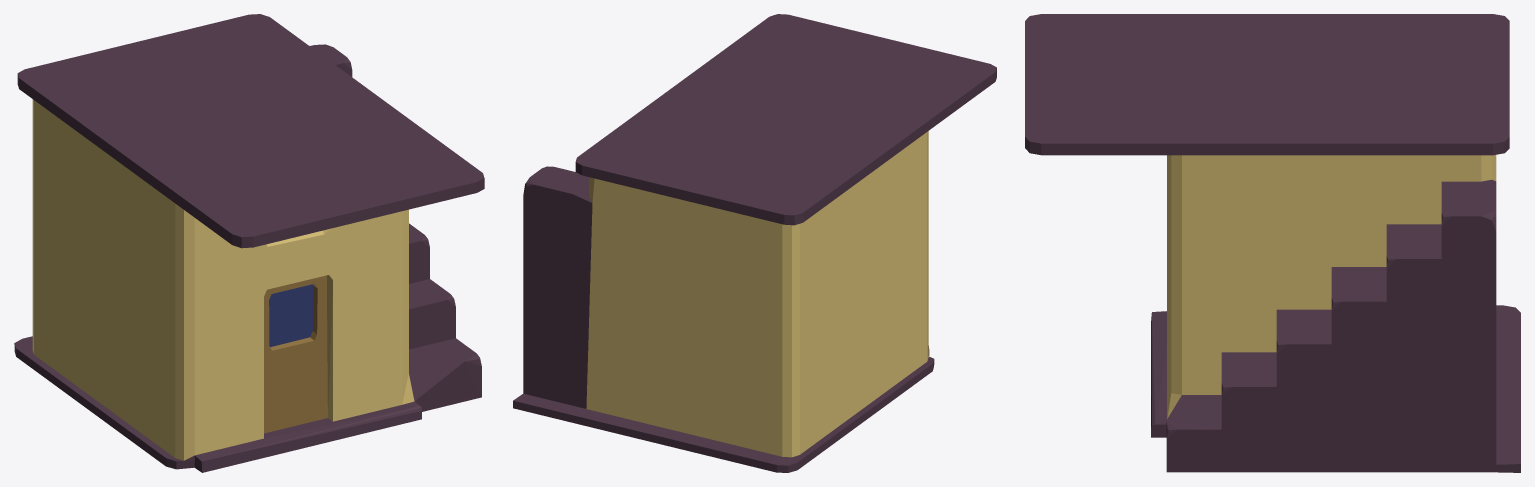
File: Building1.fbx
3 renders of one model, left to right at view 1: azimuth 30°, elevation 25°; view 2: azimuth 150°, elevation 25°; view 3: azimuth 270°, elevation 25°, orthographic. The views are drawn at different scales.
Parts seen in each view (by area): view 1: Building1; view 2: Building1; view 3: Building1.
Boxes of the visible parts, <box> form: Building1: <box>14,14,484,472</box>; Building1: <box>513,14,996,472</box>; Building1: <box>1025,14,1520,472</box>.
Size of the model in its own units: 4.59 by 4.01 by 6.02.
